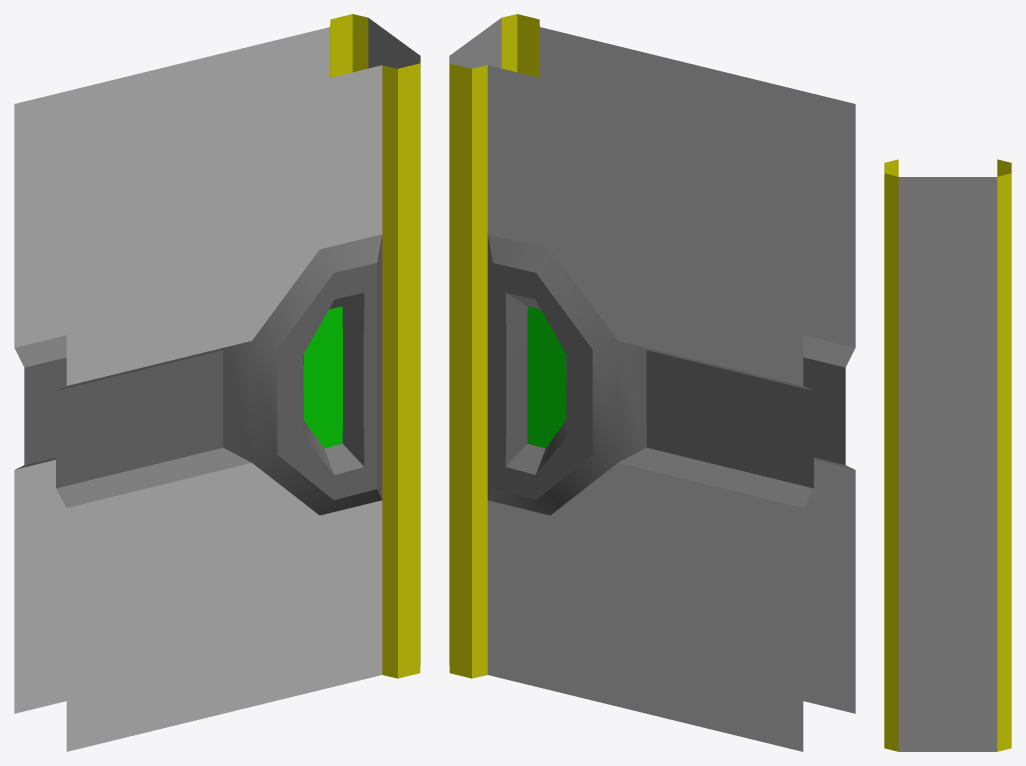
The model's file is level_door.fbx.
3 renders of one model, left to right at view 1: azimuth 30°, elevation 25°; view 2: azimuth 150°, elevation 25°; view 3: azimuth 270°, elevation 25°, orthographic. The views are drawn at different scales.
Visible parts, largest first — view 1: level_door; view 2: level_door; view 3: level_door.
Part boxes in pixels (<box>): level_door: <box>14,14,420,751</box>; level_door: <box>449,14,855,751</box>; level_door: <box>884,159,1011,751</box>.
Bounding box in the file's own units: 3.92 × 6.45 × 1.29.
